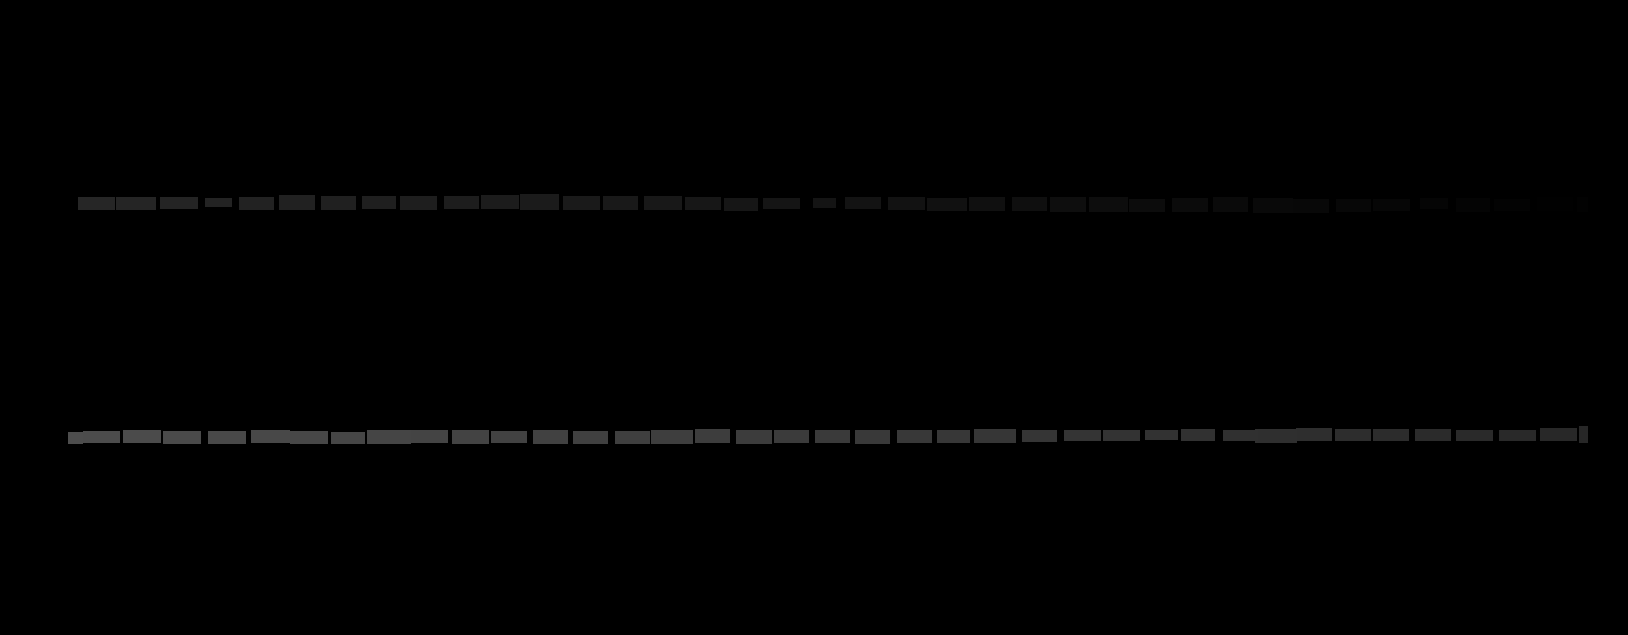light: (367, 430, 411, 444), (974, 429, 1016, 443), (1255, 429, 1297, 443), (651, 430, 693, 444), (520, 194, 559, 210), (1253, 198, 1293, 213), (1089, 197, 1128, 212), (452, 430, 489, 444), (1050, 197, 1086, 212), (736, 430, 772, 444), (644, 196, 682, 210), (481, 195, 519, 209), (290, 431, 328, 444), (251, 430, 290, 443), (208, 431, 246, 444), (163, 431, 201, 444), (123, 430, 161, 443), (1213, 197, 1248, 212), (279, 195, 315, 210), (854, 430, 890, 444), (695, 429, 730, 443), (533, 430, 568, 444), (563, 196, 600, 210), (400, 196, 437, 210), (1540, 427, 1577, 441), (927, 198, 967, 211), (116, 197, 156, 210), (1537, 197, 1573, 211), (1293, 199, 1329, 213), (969, 197, 1005, 211), (1296, 427, 1332, 441), (411, 430, 447, 443), (1172, 198, 1208, 212), (321, 196, 356, 210), (897, 430, 932, 443), (815, 430, 850, 443), (774, 430, 809, 443), (615, 431, 650, 444), (573, 431, 608, 444), (888, 197, 925, 210), (78, 197, 115, 210), (83, 431, 120, 443), (1456, 198, 1490, 212), (1012, 197, 1047, 211), (603, 196, 637, 210), (1129, 199, 1165, 212), (1415, 429, 1451, 441), (1373, 429, 1409, 441), (491, 431, 527, 443), (937, 430, 970, 443), (685, 197, 721, 210), (239, 197, 274, 210), (1335, 429, 1371, 441), (1022, 430, 1057, 442), (160, 197, 198, 209), (1373, 199, 1410, 211), (1336, 199, 1371, 212), (724, 198, 758, 211), (444, 196, 479, 209), (1456, 430, 1493, 441), (1181, 429, 1215, 441), (1103, 430, 1140, 441), (331, 432, 365, 444), (1494, 199, 1530, 211), (845, 197, 881, 209), (1499, 430, 1536, 441), (1064, 430, 1101, 441), (362, 196, 396, 209), (1223, 430, 1258, 441), (763, 198, 801, 209), (1145, 430, 1178, 440), (1420, 198, 1448, 209), (205, 198, 232, 208), (813, 198, 836, 208), (67, 432, 83, 444), (1577, 197, 1588, 212), (1579, 426, 1588, 443)
